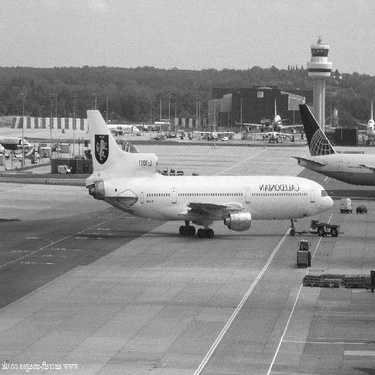airplane: (67, 89, 341, 248), (287, 96, 372, 198), (233, 92, 315, 148), (88, 104, 144, 148), (350, 97, 374, 138), (1, 139, 43, 159)
